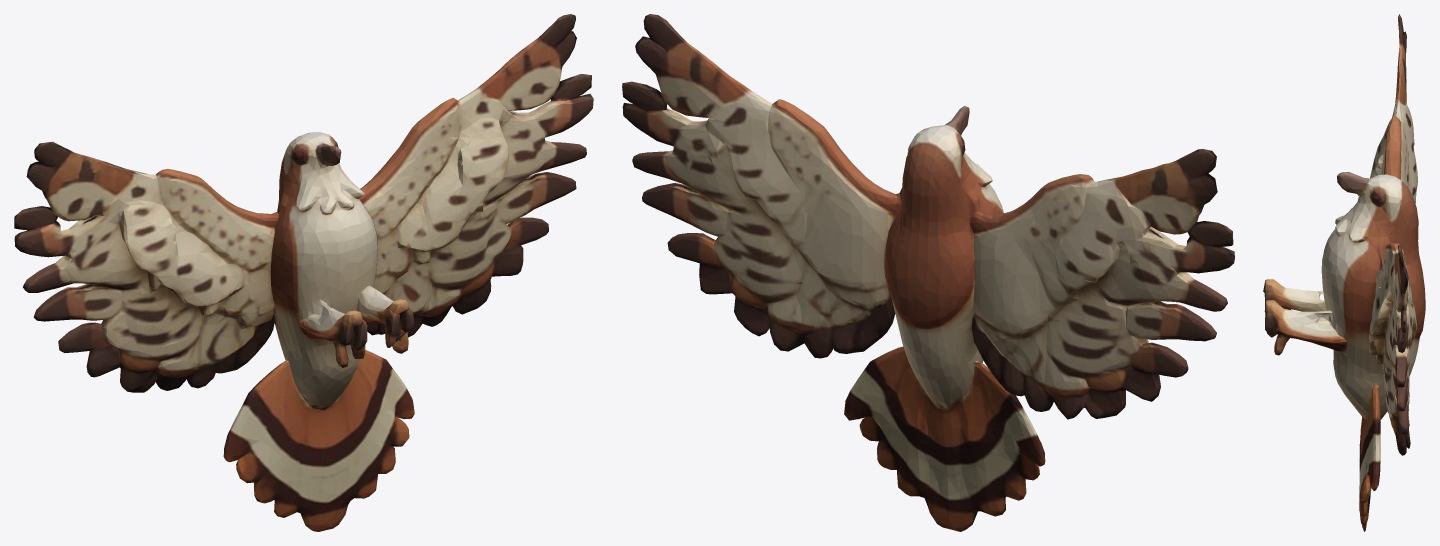
File: sahin.glb
3 views of the same model, side by side, from view 1: azimuth 30°, elevation 25°; view 2: azimuth 150°, elevation 25°; view 3: azimuth 270°, elevation 25° (orthographic). The views are drawn at different scales.
Visible parts, largest first — view 1: world; view 2: world; view 3: world.
Boxes of the visible parts, x1,y1,x2,y2 form: world: [14, 14, 593, 531]; world: [622, 14, 1234, 531]; world: [1263, 14, 1425, 531].
Bounding box in the file's own units: 1 × 0.7249 × 0.2692.
Materials: 1 (1 with a texture image).
